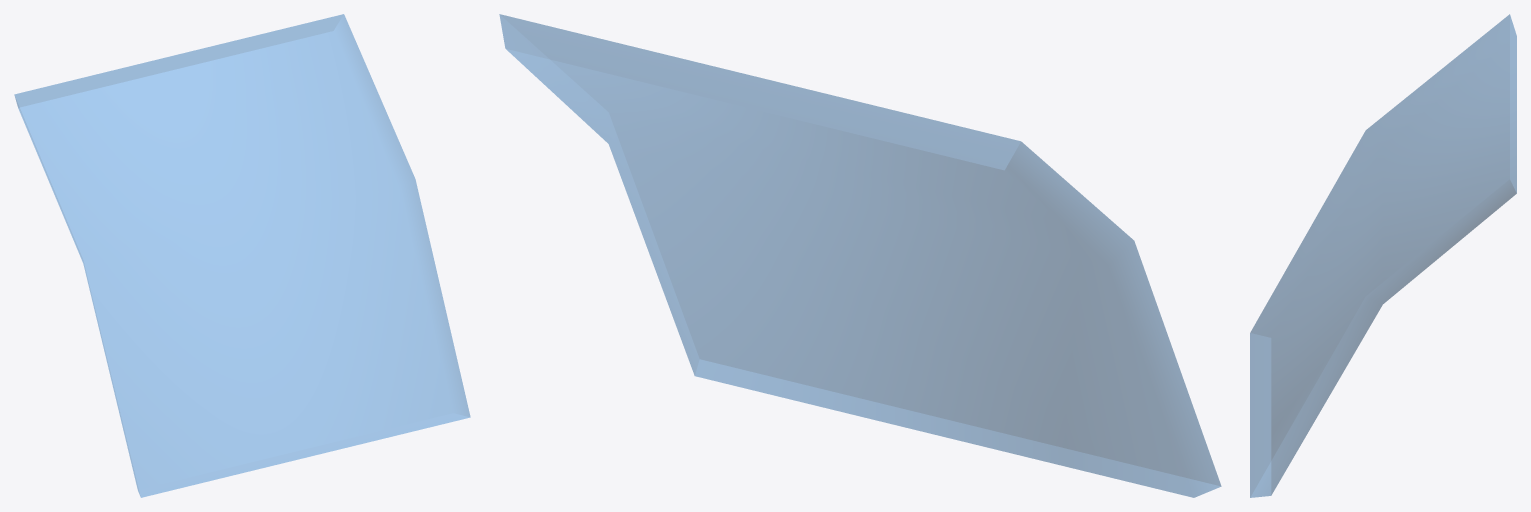
The model's file is Glass_01.fbx.
3 renders of one model, left to right at view 1: azimuth 30°, elevation 25°; view 2: azimuth 150°, elevation 25°; view 3: azimuth 270°, elevation 25°, orthographic. The views are drawn at different scales.
Visible parts, largest first — view 1: Glass; view 2: Glass; view 3: Glass.
Boxes of the visible parts, box(x1,y1,x2,y2) form: Glass: box(14, 14, 470, 497); Glass: box(499, 14, 1221, 497); Glass: box(1250, 14, 1516, 497).
Size of the model in its own units: 2.93 by 2.64 by 1.99.
